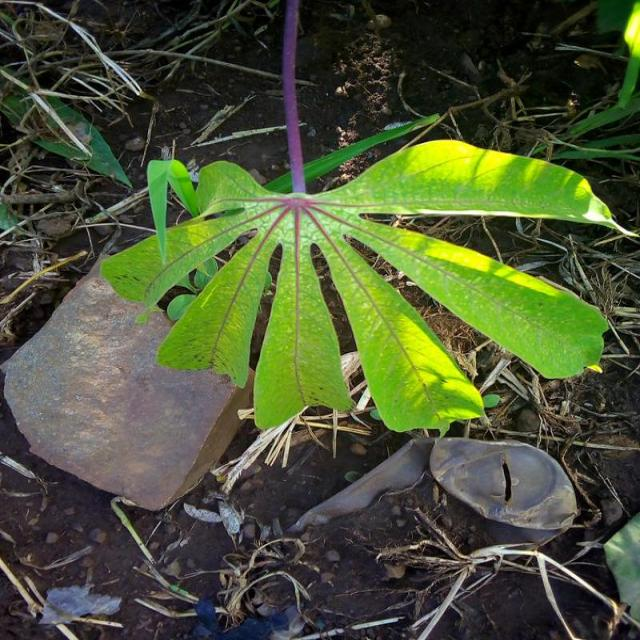cassava leaf: (98, 2, 635, 439)
